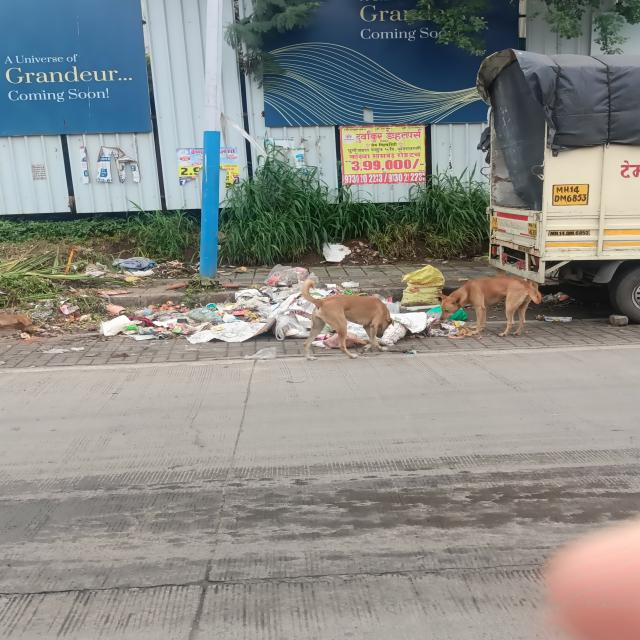garbage: (153, 274, 441, 338), (1, 242, 144, 327)
